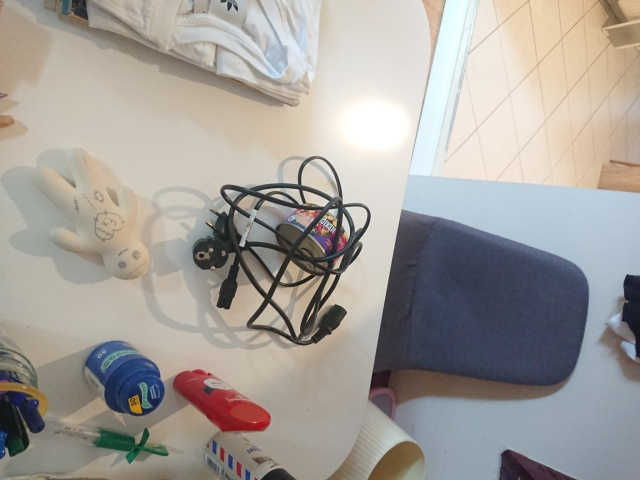Giana Tuna Salad Mexico 185g: (274, 201, 351, 278)
